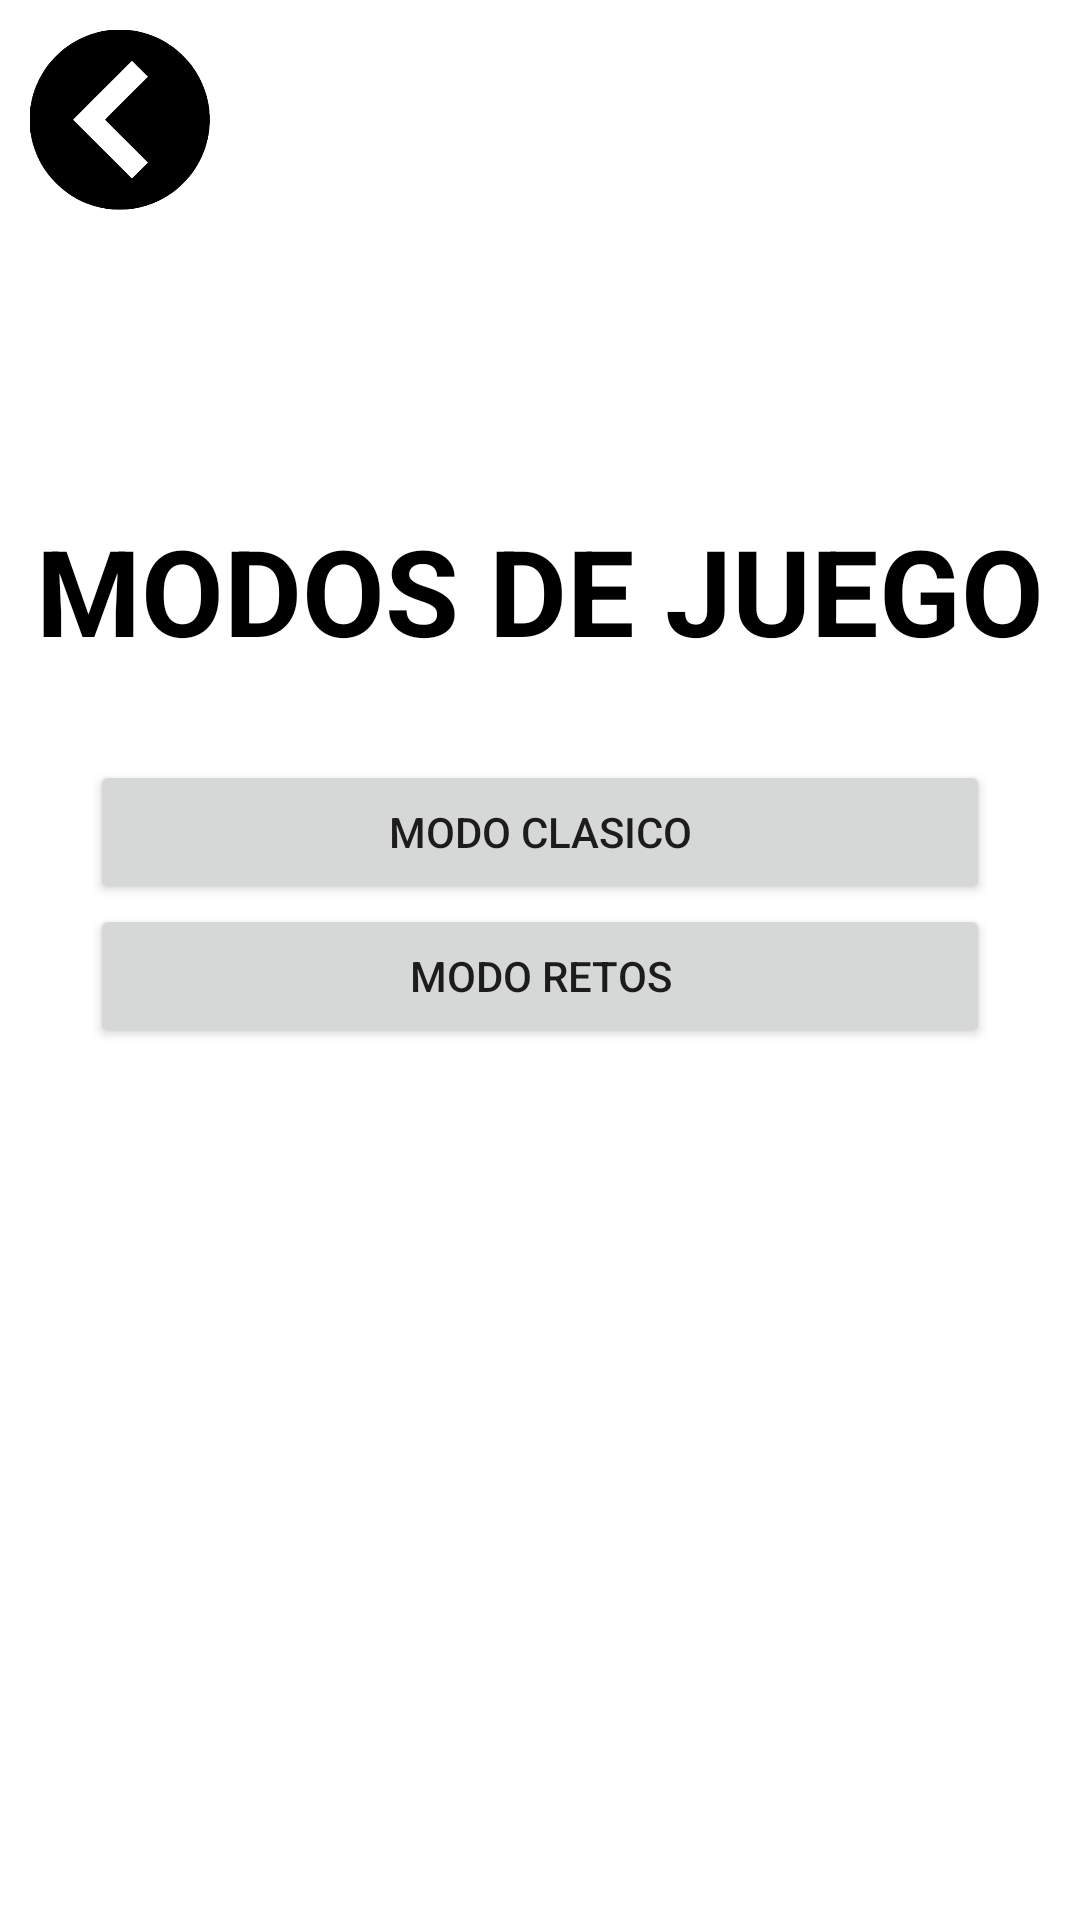

Point at icon controls on the screen. Image size 1080*1920, points as (x=x, y=y).
flecha: (x=120, y=120)
